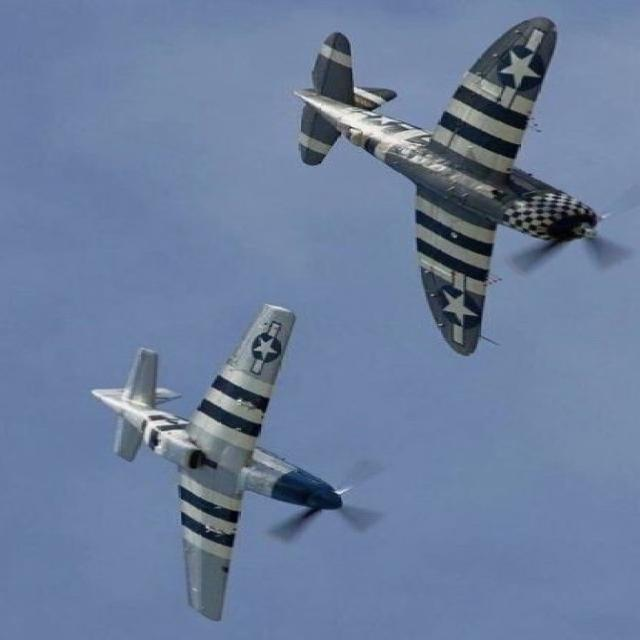iha: (294, 14, 638, 357), (89, 300, 380, 623)
